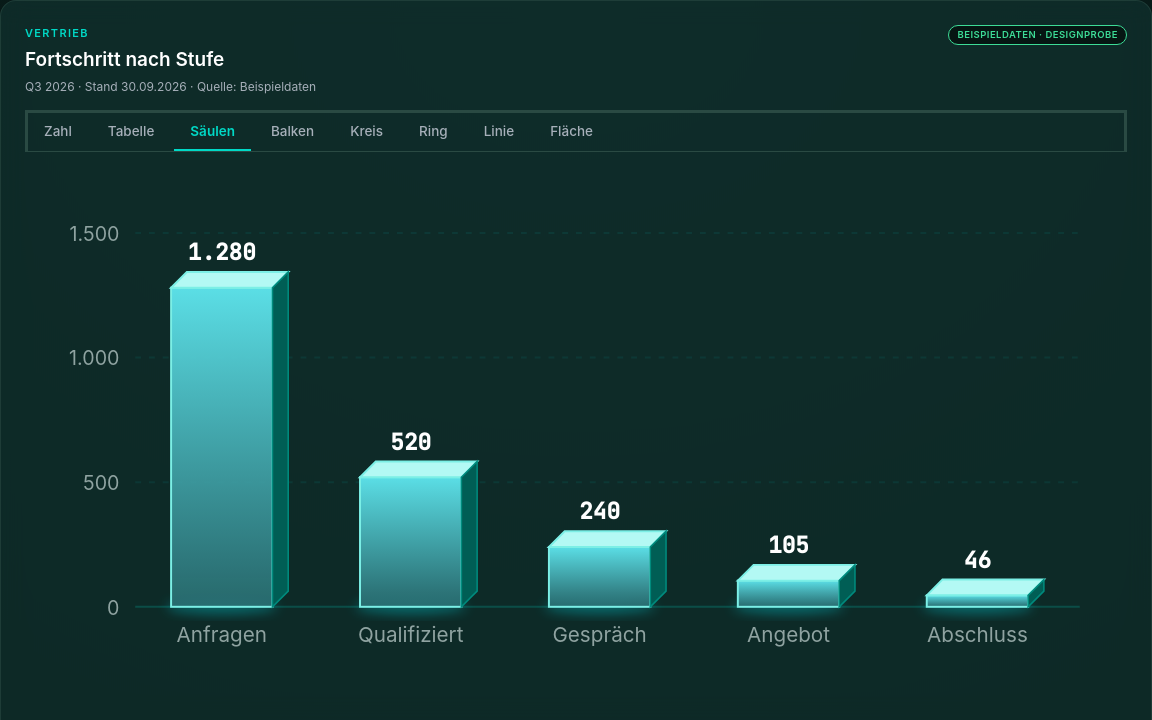
Test case: DashboardDesignPreview › zeigt horizontale Balken und den Kreis mit den Beispieldaten
The image size is (1152, 720).
Click the tab "Balken" at (292, 132), box x1=255 y1=113 x2=330 y2=151
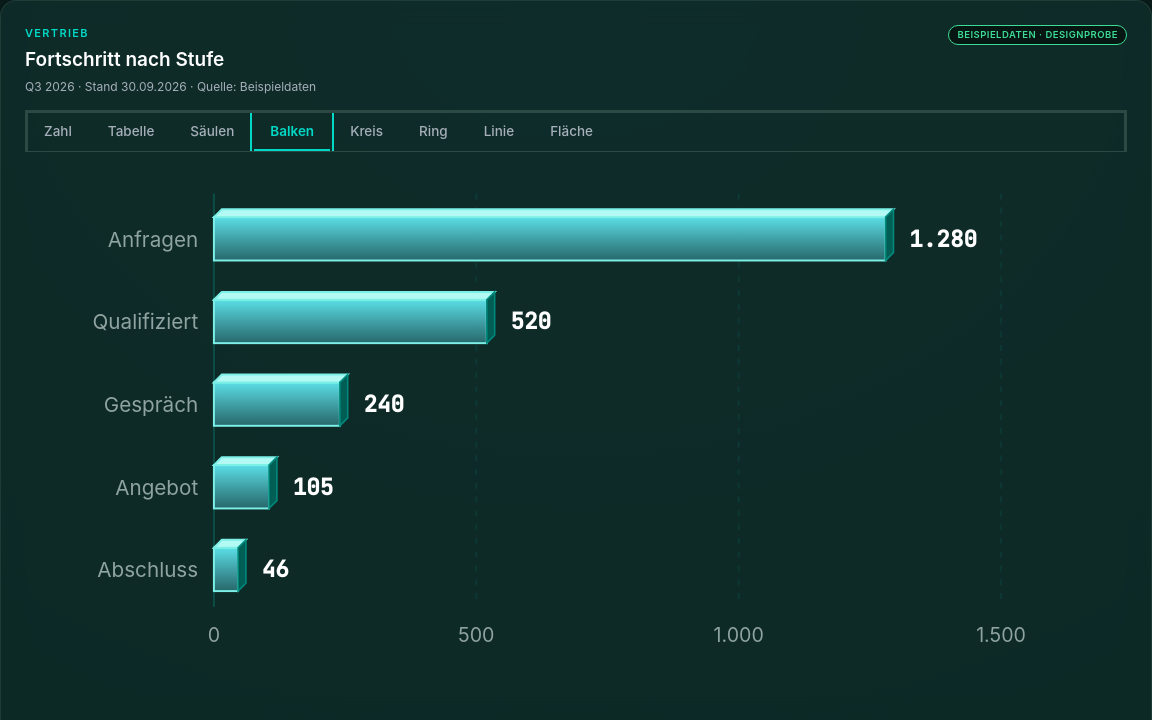
Click the tab "Kreis" at (367, 132), box x1=334 y1=113 x2=399 y2=151
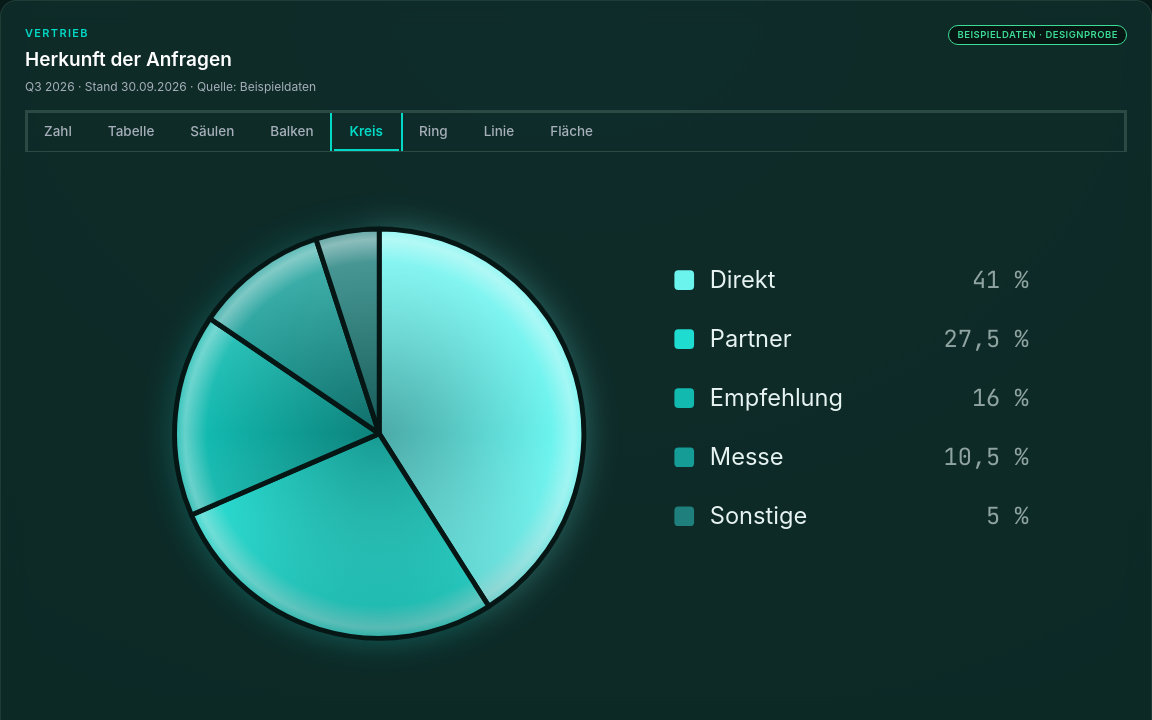
Expected: the picture named "Kreis" is shown
